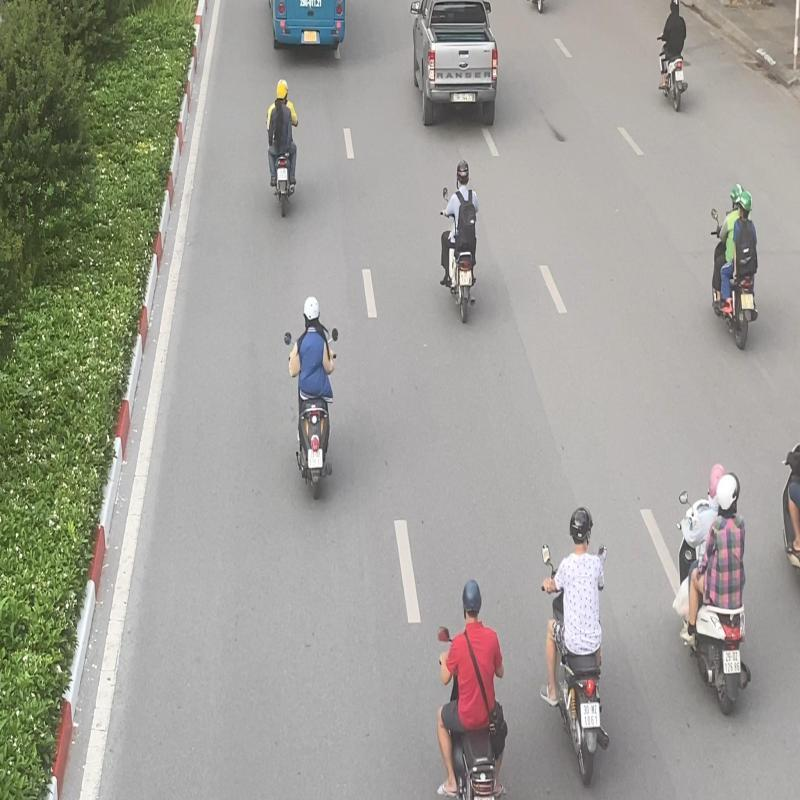helmet: (716, 472, 740, 520), (570, 503, 594, 550), (462, 576, 483, 622), (708, 463, 726, 493), (303, 295, 320, 326), (456, 159, 470, 187), (738, 190, 754, 214), (730, 182, 744, 202), (276, 78, 288, 101)
licenseplate: (580, 702, 602, 730), (722, 648, 742, 674), (308, 447, 324, 470), (458, 269, 473, 287), (740, 292, 754, 310), (278, 168, 288, 182)
motorcyclist: (672, 461, 756, 718), (540, 504, 612, 790), (435, 573, 511, 800), (284, 295, 339, 501), (710, 181, 760, 352), (439, 158, 480, 325), (266, 78, 300, 218)
